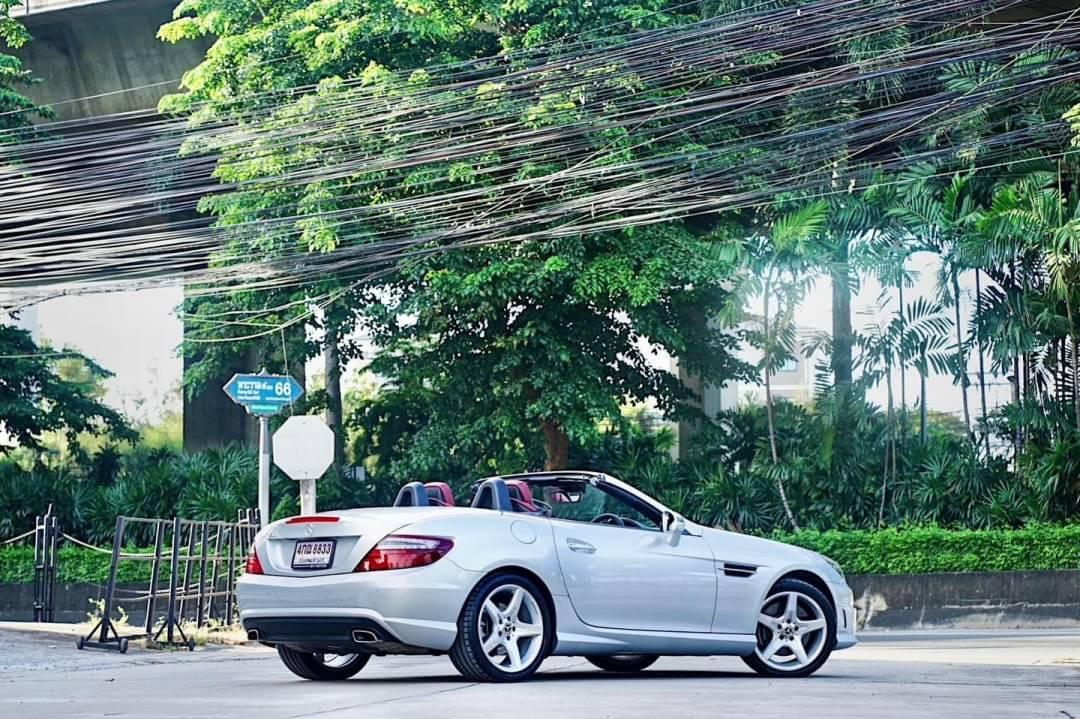license-plate: (286, 533, 340, 576)
